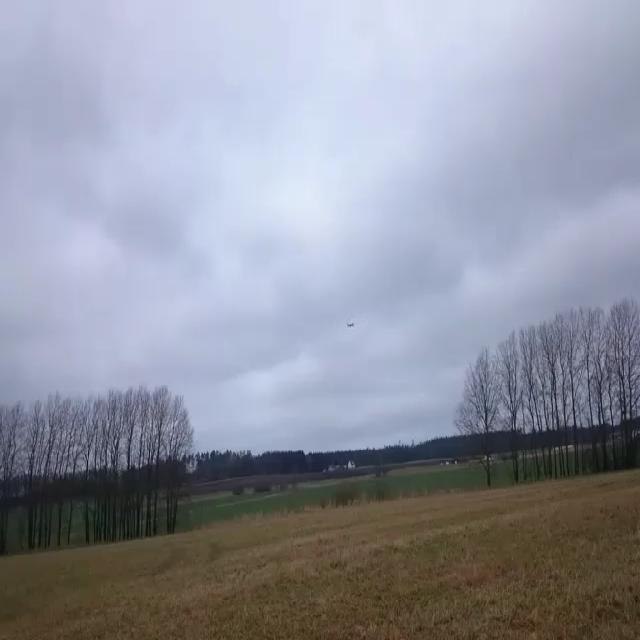Drone: (337, 312, 365, 336)
